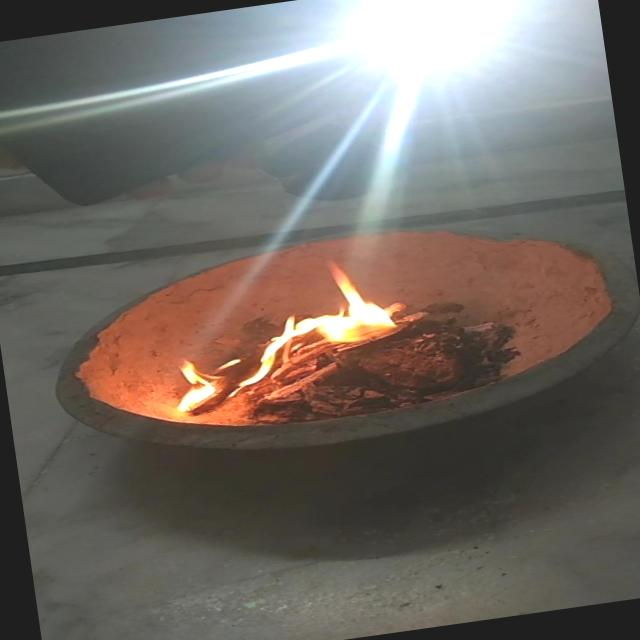fire: (244, 233, 394, 359)
